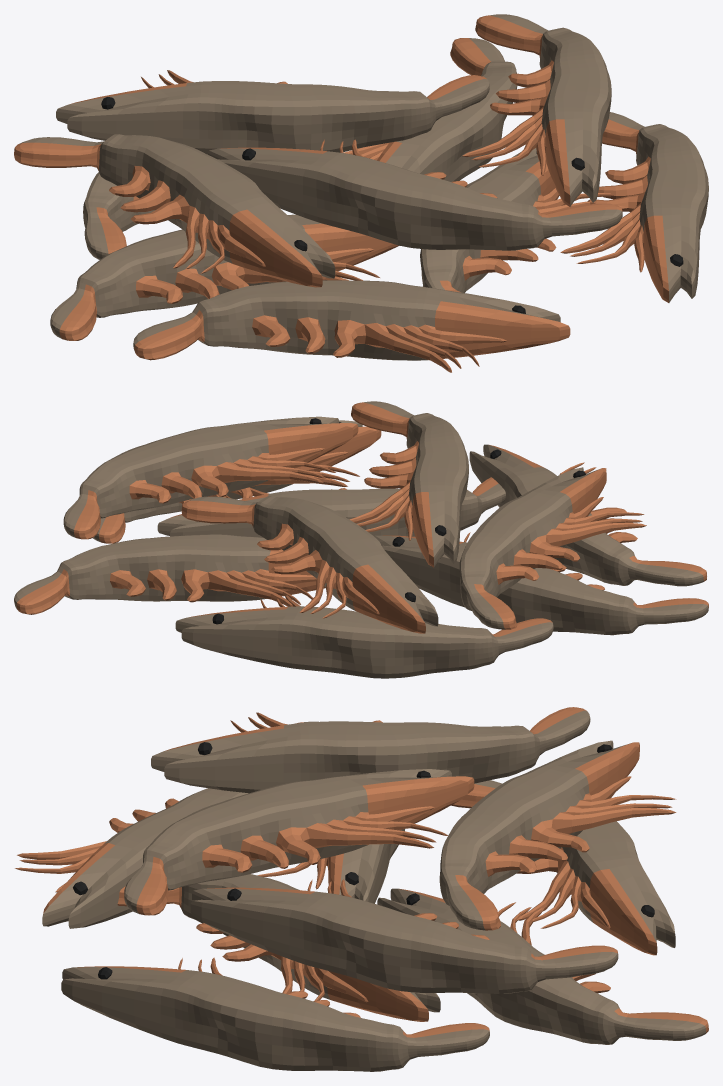
Rendered from Prawns.fbx.
3 views of the same model, one above another, from view 1: azimuth 30°, elevation 25°; view 2: azimuth 150°, elevation 25°; view 3: azimuth 270°, elevation 25° (orthographic). The views are drawn at different scales.
Visible parts, largest first — view 1: Prawns; view 2: Prawns; view 3: Prawns.
Boxes of the visible parts, x1,y1,x2,y2 form: Prawns: [14, 14, 708, 372]; Prawns: [14, 401, 708, 678]; Prawns: [15, 707, 708, 1071].
Bounding box in the file's own units: 97.49 × 16.94 × 87.18.
